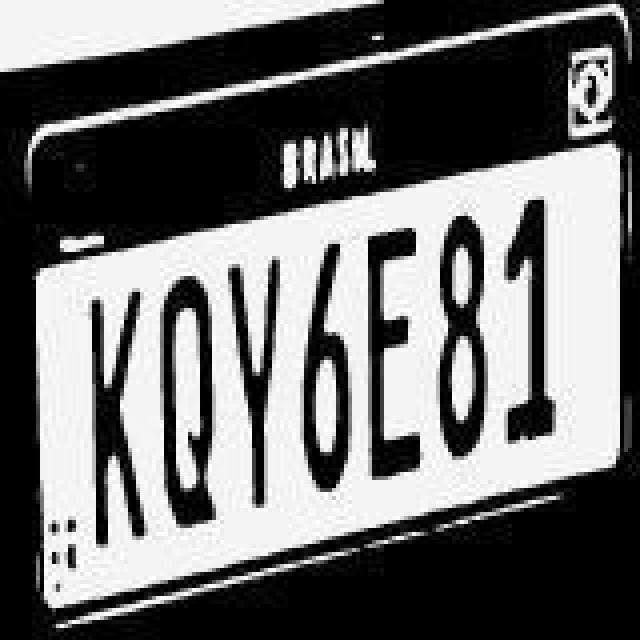1: (498, 180, 574, 476)
6: (298, 230, 366, 506)
8: (428, 196, 500, 476)
E: (350, 206, 434, 498)
K: (80, 274, 152, 558)
Q: (146, 258, 222, 542)
Y: (224, 246, 304, 522)
